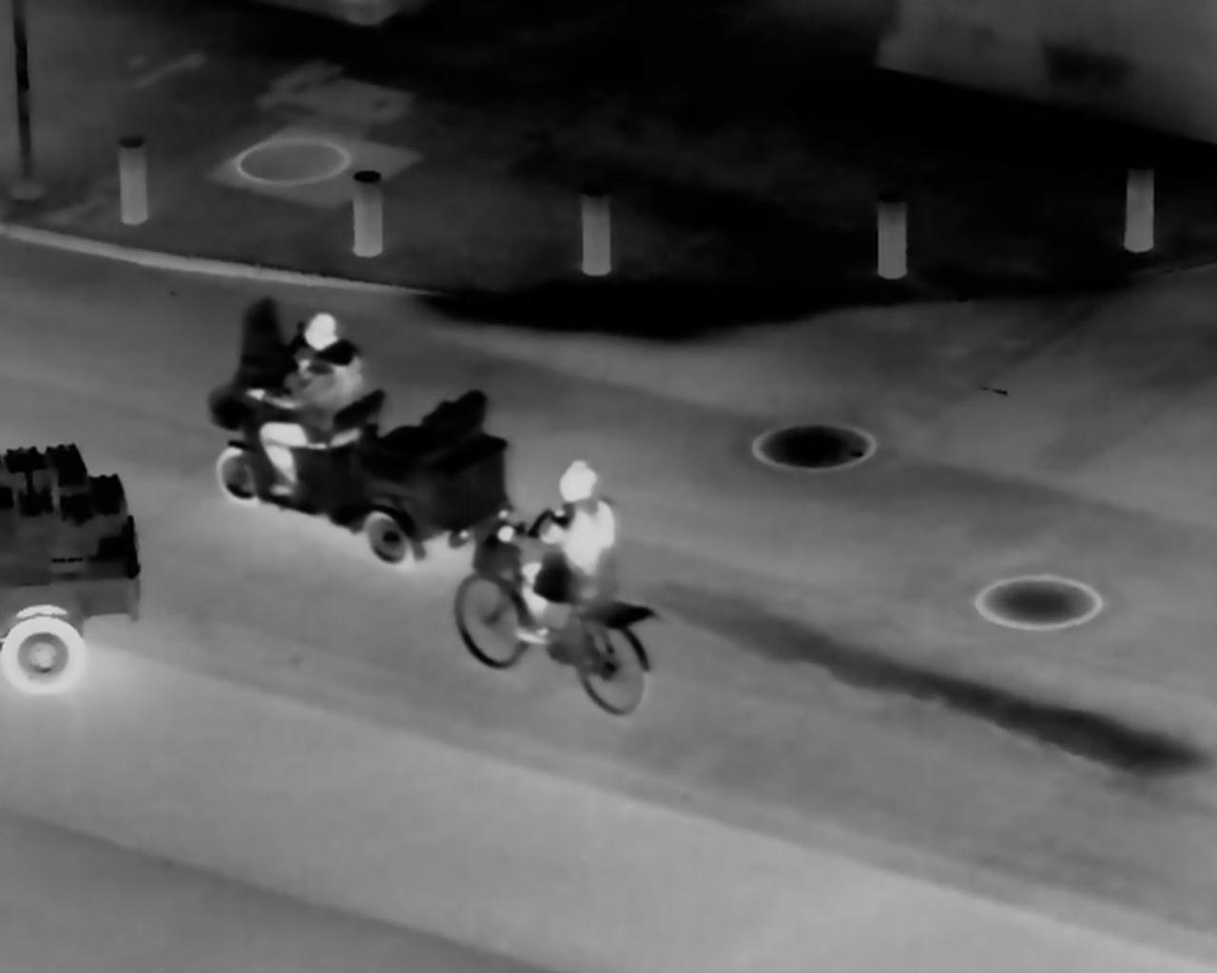person: (511, 448, 638, 661), (241, 300, 371, 482)
